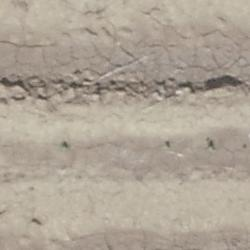cotton: (61, 141, 68, 149), (209, 142, 214, 149), (165, 140, 170, 147)
